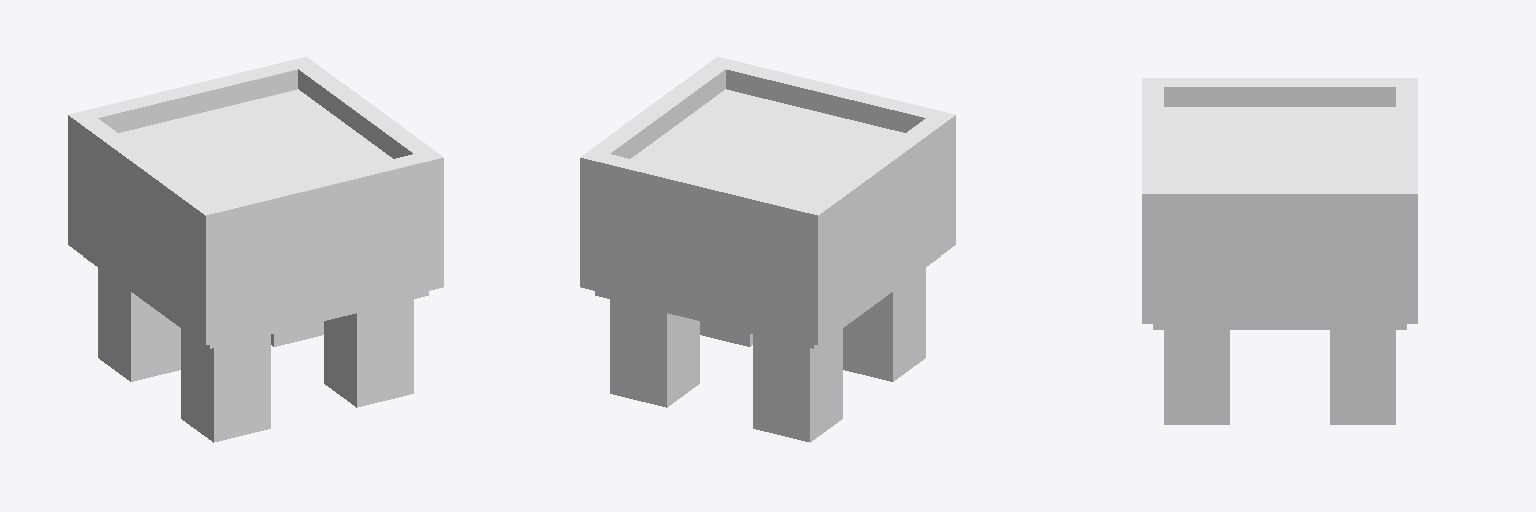
Rendered from crusher.obj.
3 renders of one model, left to right at view 1: azimuth 30°, elevation 25°; view 2: azimuth 150°, elevation 25°; view 3: azimuth 270°, elevation 25°, orthographic.
Size of the model in its own units: 1 by 0.96 by 1.